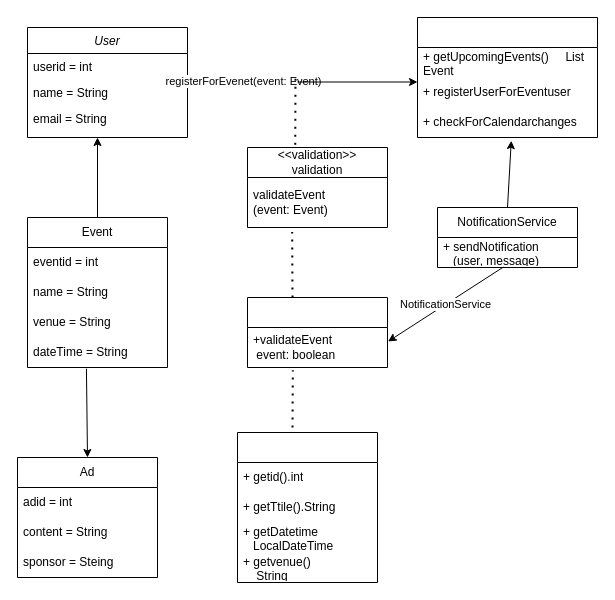
Image size: 615x600. Some labels were removed from this diagram. Each missing label, with the box of its shape:
<<interface>> EventData: (236, 432, 378, 582)
<<Reference>> Validator: (246, 296, 388, 368)
EventService: (416, 16, 598, 138)
